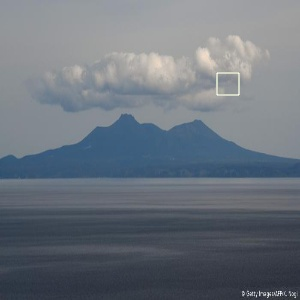square: (214, 71, 241, 98)
